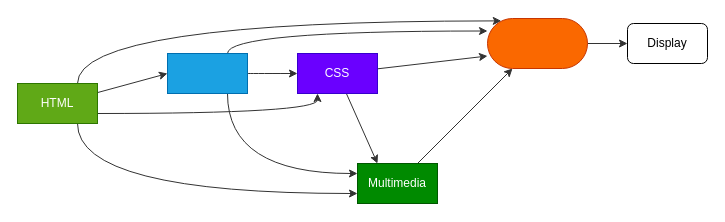
The diagram is 725 pixels wide and 222 high, and some of its shapes have lost their labels. The shapes that lost their labels are listed below. From the top down, each one's centre as x and y in pixels, then its label:
the point at 537,43: Renderer (Browser)
the point at 207,73: JS
